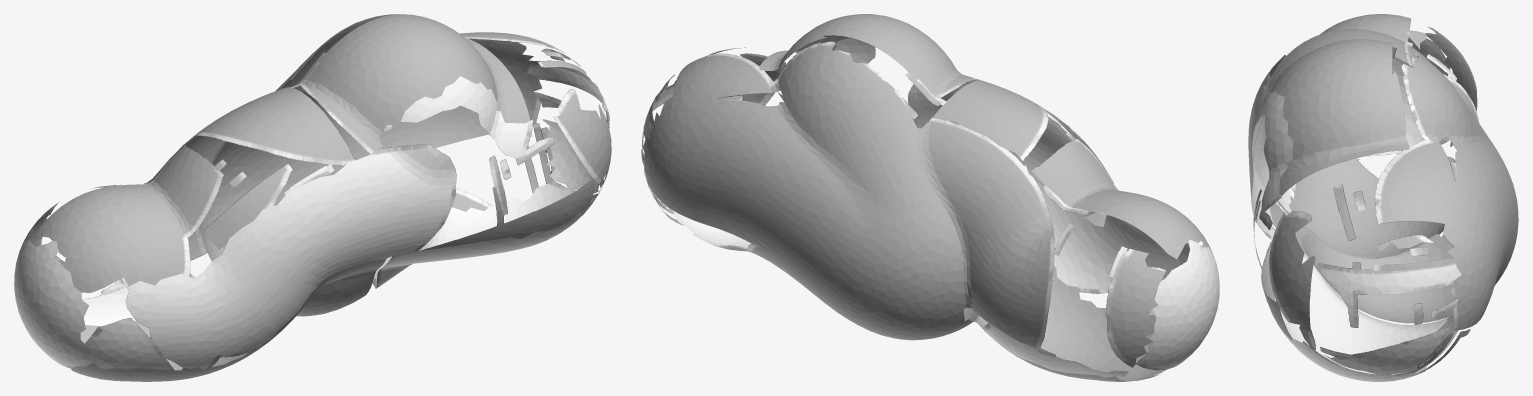
Rendered from cloudCounter.obj.
The picture shows the model from 3 angles, left to right: view 1: azimuth 30°, elevation 25°; view 2: azimuth 150°, elevation 25°; view 3: azimuth 270°, elevation 25°; orthographic projection. The views are drawn at different scales.
Parts seen in each view (by area): view 1: model_0; view 2: model_0; view 3: model_0.
Boxes of the visible parts, x1,y1,x2,y2 form: model_0: [14, 14, 611, 381]; model_0: [641, 14, 1219, 381]; model_0: [1248, 14, 1518, 381].
Bounding box in the file's own units: 469 × 232 × 181.
